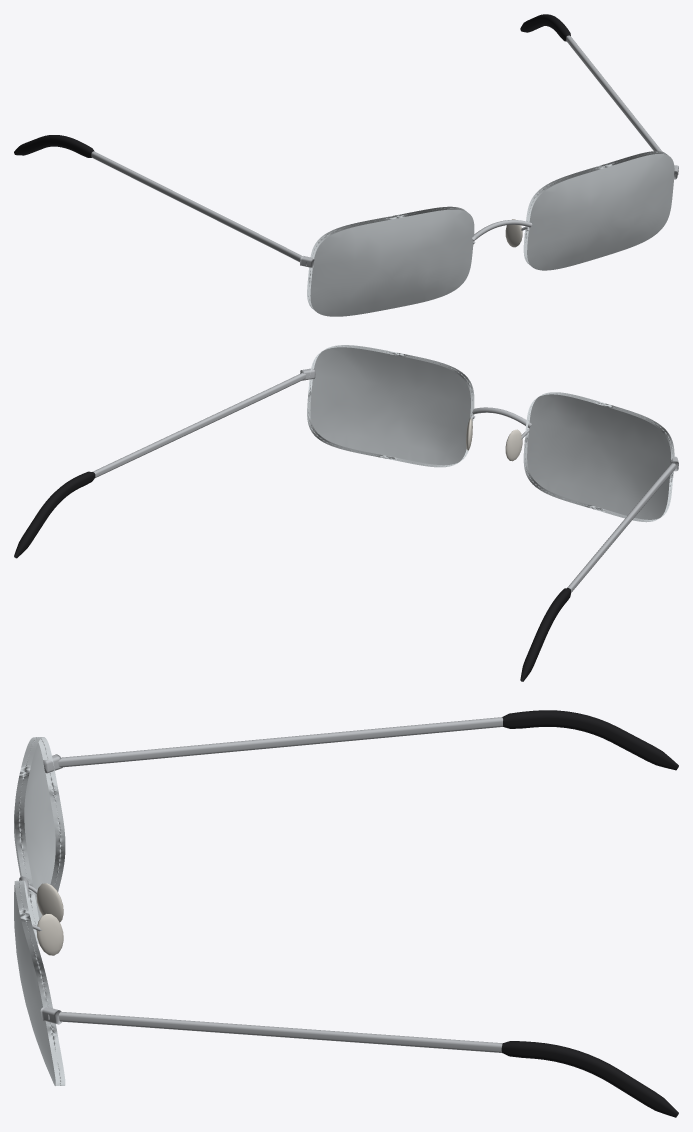
The model's file is rimless.glb.
The picture shows the model from 3 angles, top to bottom: view 1: azimuth 30°, elevation 25°; view 2: azimuth 150°, elevation 25°; view 3: azimuth 270°, elevation 25°; orthographic projection. The views are drawn at different scales.
Parts seen in each view (by area): view 1: glasses; view 2: glasses; view 3: glasses.
Part boxes in pixels (<box>): glasses: <box>14,14,678,316</box>; glasses: <box>14,345,678,681</box>; glasses: <box>14,710,678,1117</box>.
Size of the model in its own units: 0.1718 by 0.0313 by 0.1376.
Materials: 2 (1 with a texture image).
